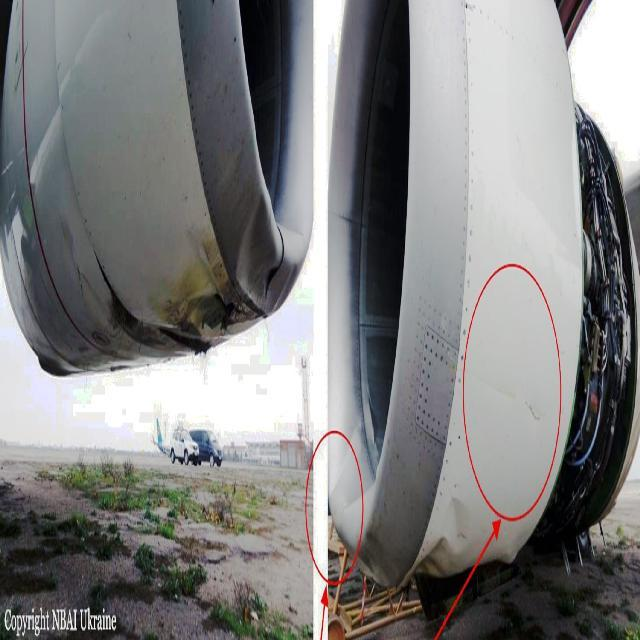crack: (524, 398, 544, 424)
dent: (406, 495, 474, 584)
